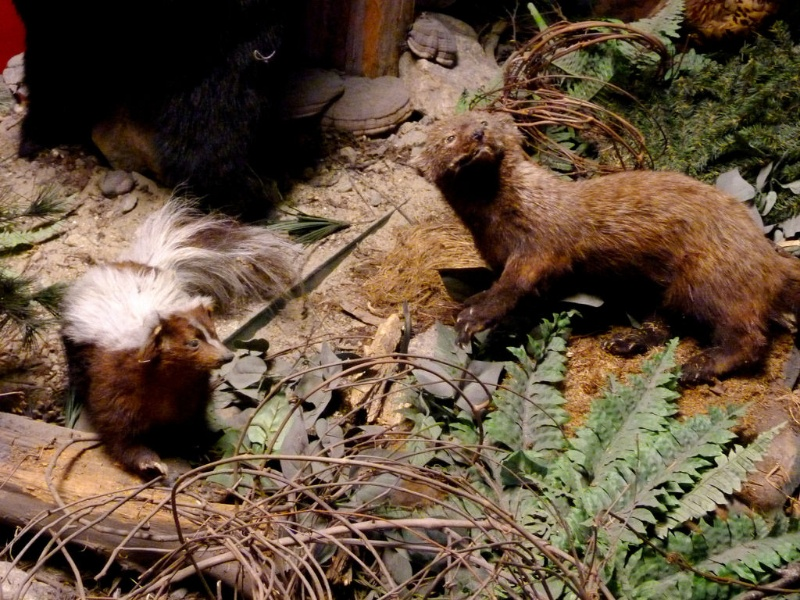minkish: (428, 116, 800, 383)
